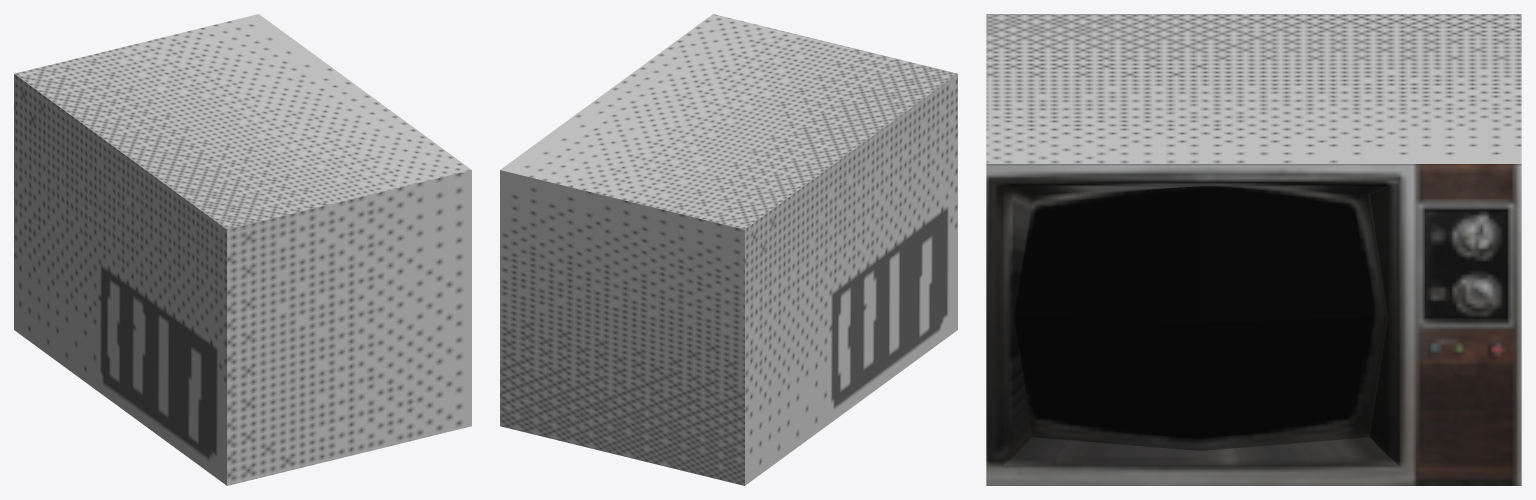
The picture shows the model from 3 angles, left to right: view 1: azimuth 30°, elevation 25°; view 2: azimuth 150°, elevation 25°; view 3: azimuth 270°, elevation 25°; orthographic projection. The views are drawn at different scales.
Visible parts, largest first — view 1: Cube; view 2: Cube; view 3: Cube.
Boxes of the visible parts, box(x1,y1,x2,y2) form: Cube: box(14, 14, 471, 485); Cube: box(500, 14, 957, 485); Cube: box(986, 14, 1521, 485).
Bounding box in the file's own units: 2 × 2 × 3.02.
1 material, 1 textured.
